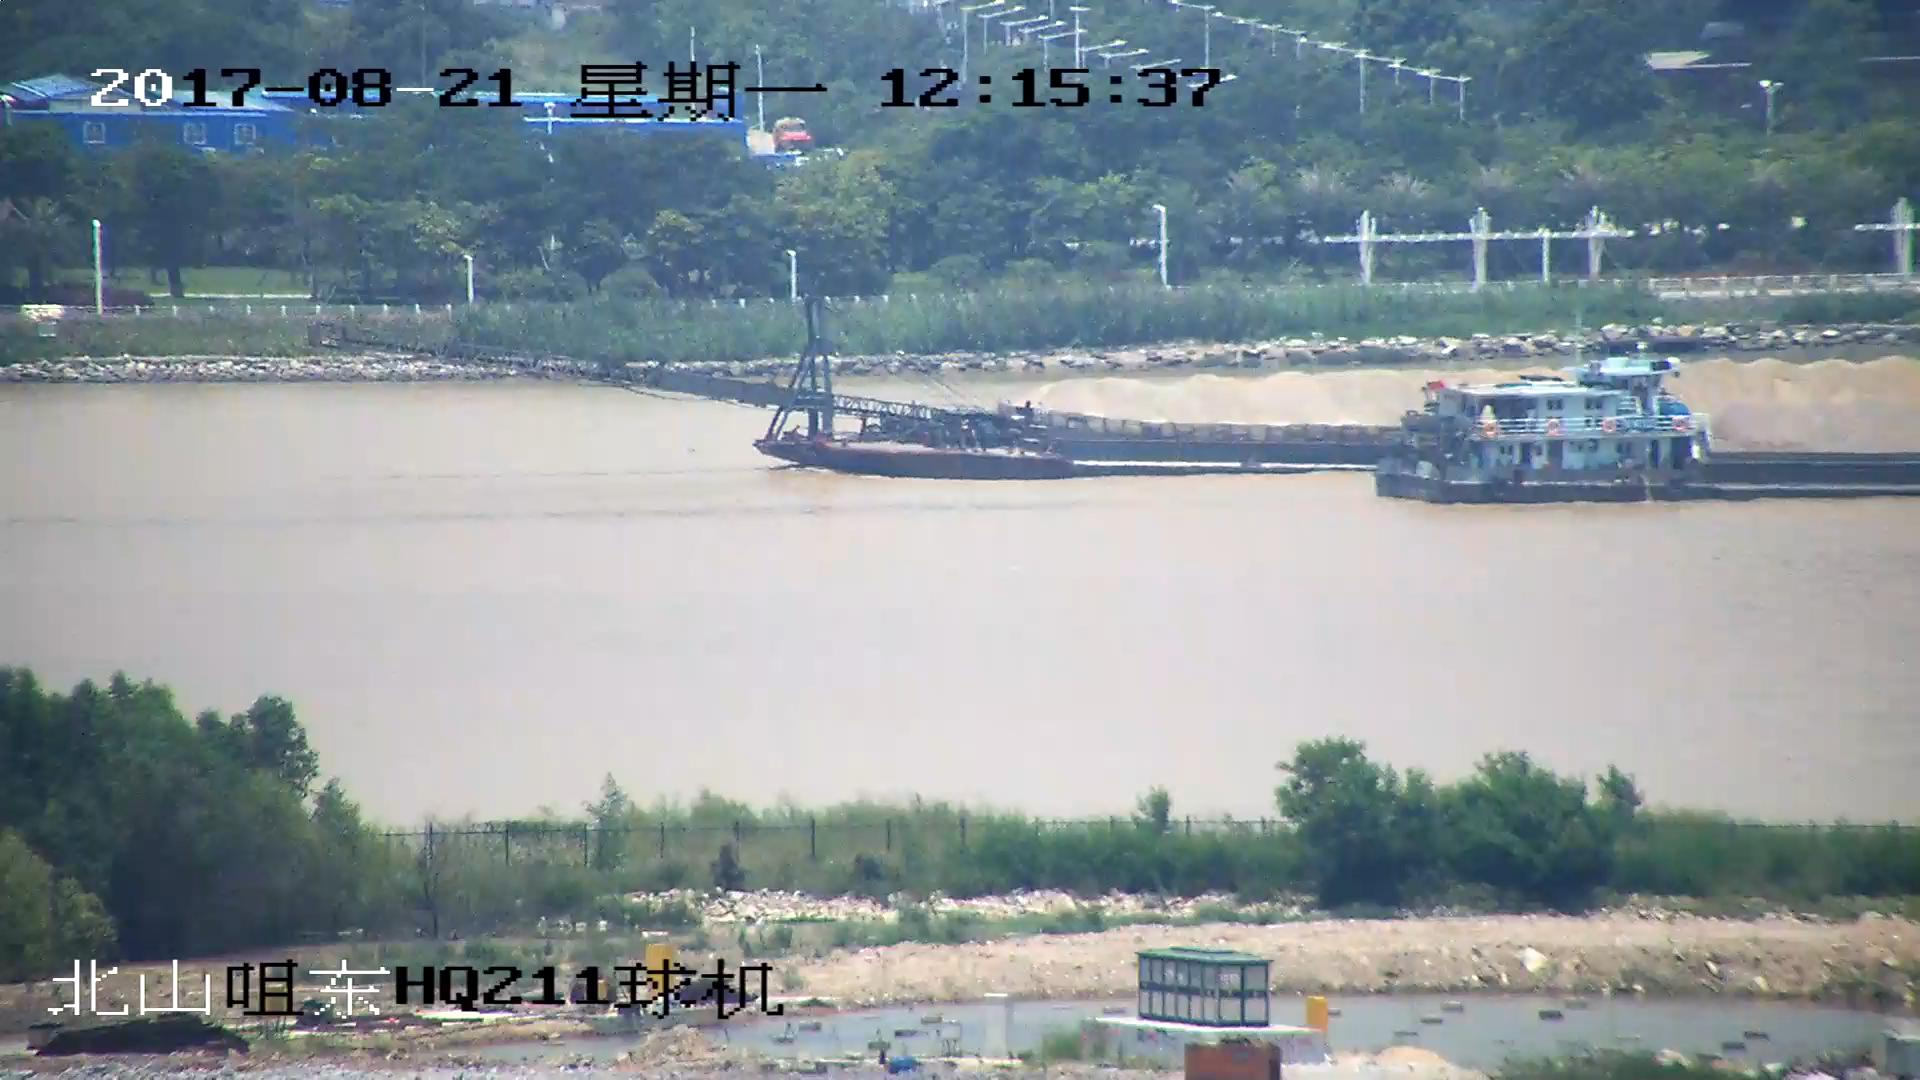ore carrier: (322, 303, 1920, 471), (1369, 384, 1920, 503)
